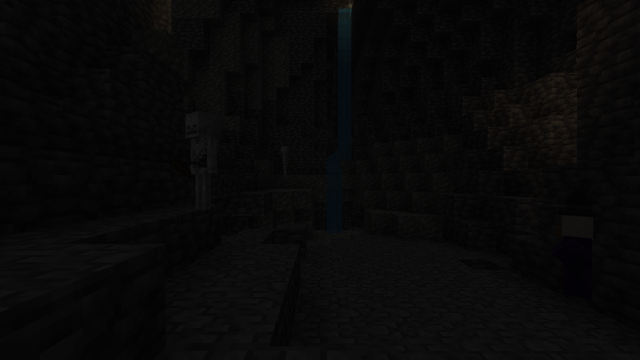sorcieres: (550, 209, 591, 308)
squelettes: (181, 112, 221, 210), (280, 146, 289, 174)
